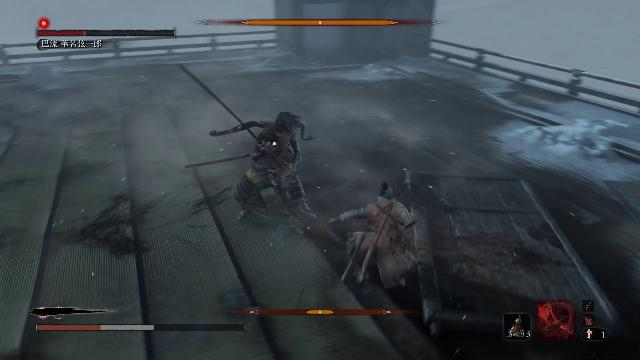sk: (326, 175, 425, 290)
